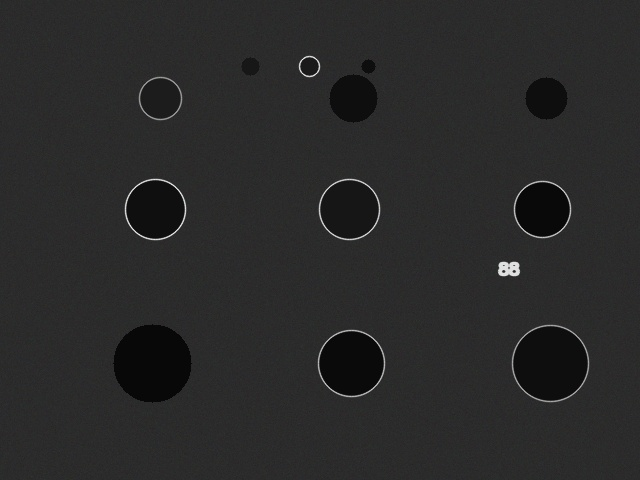hole: (113, 324, 191, 402), (512, 325, 588, 401), (318, 330, 384, 396), (125, 179, 185, 239), (319, 179, 379, 239), (514, 181, 570, 237), (329, 74, 377, 122), (139, 77, 181, 119), (525, 77, 567, 119), (299, 56, 319, 76), (241, 57, 259, 75), (361, 59, 375, 73)
